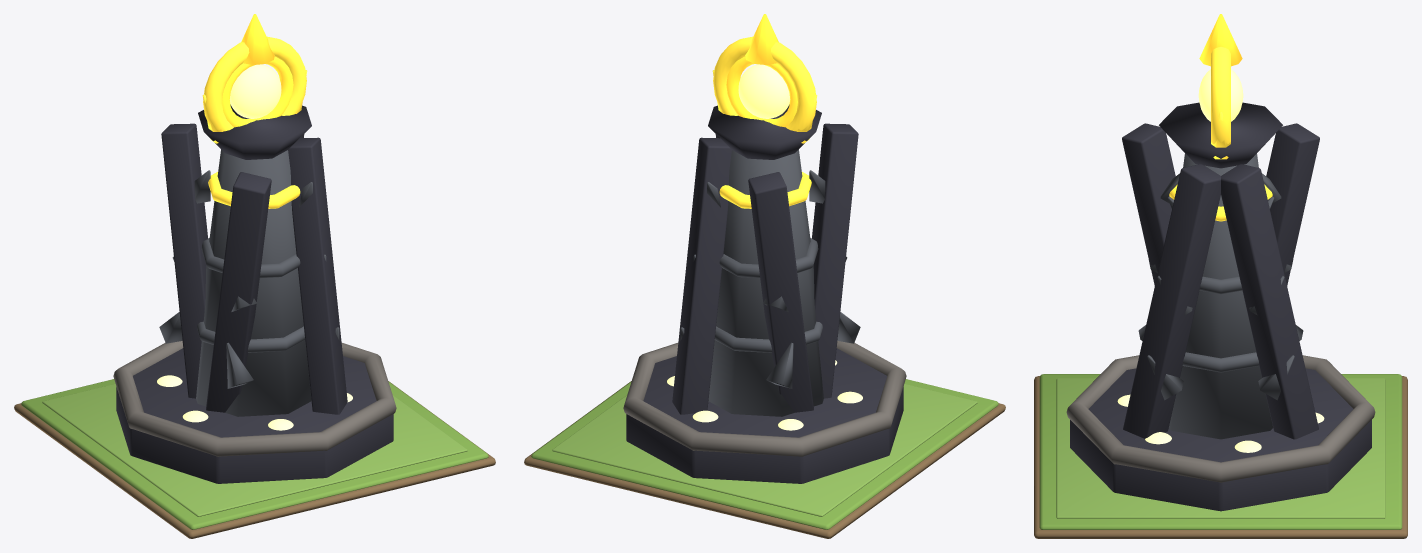
The model's file is inferno_tower.glb.
3 views of the same model, side by side, from view 1: azimuth 30°, elevation 25°; view 2: azimuth 150°, elevation 25°; view 3: azimuth 270°, elevation 25° (orthographic). The views are drawn at different scales.
Parts seen in each view (by area): view 1: IT_BasinOuterWall, IT_SpireCore, Base_Inner, IT_ObsidianRib_3, IT_BasinRim, Base_Grass, IT_ObsidianRib_2, IT_ObsidianRib_1, Base_Dirt, IT_CrownCradle, IT_OcularGoldRing, IT_OcularCoreEye (+6 smaller); view 2: IT_BasinOuterWall, IT_SpireCore, Base_Inner, IT_ObsidianRib_0, IT_BasinRim, Base_Grass, IT_ObsidianRib_1, IT_ObsidianRib_2, Base_Dirt, IT_CrownCradle, IT_OcularGoldRing, IT_OcularCoreEye (+6 smaller); view 3: IT_BasinOuterWall, Base_Inner, IT_ObsidianRib_0, IT_ObsidianRib_3, IT_SpireCore, Base_Grass, IT_BasinRim, Base_Dirt, IT_ObsidianRib_1, IT_ObsidianRib_2, IT_CrownCradle, IT_OcularGoldRing (+6 smaller).
Part boxes in pixels (x1=…): IT_BasinOuterWall: x1=116, y1=348, x2=393, y2=483; IT_SpireCore: x1=196, y1=149, x2=311, y2=416; Base_Inner: x1=42, y1=383, x2=467, y2=516; IT_ObsidianRib_3: x1=288, y1=137, x2=347, y2=414; IT_BasinRim: x1=113, y1=341, x2=396, y2=456; Base_Grass: x1=21, y1=379, x2=488, y2=529; IT_ObsidianRib_2: x1=206, y1=172, x2=271, y2=412; IT_ObsidianRib_1: x1=161, y1=123, x2=207, y2=398; Base_Dirt: x1=14, y1=381, x2=495, y2=538; IT_CrownCradle: x1=198, y1=104, x2=311, y2=159; IT_OcularGoldRing: x1=203, y1=36, x2=306, y2=131; IT_OcularCoreEye: x1=229, y1=64, x2=281, y2=118; IT_BasinOuterWall: x1=626, y1=348, x2=903, y2=483; IT_SpireCore: x1=708, y1=149, x2=823, y2=416; Base_Inner: x1=552, y1=383, x2=977, y2=516; IT_ObsidianRib_0: x1=672, y1=137, x2=731, y2=414; IT_BasinRim: x1=623, y1=341, x2=906, y2=456; Base_Grass: x1=531, y1=379, x2=998, y2=529; IT_ObsidianRib_1: x1=748, y1=172, x2=813, y2=412; IT_ObsidianRib_2: x1=812, y1=123, x2=858, y2=398; Base_Dirt: x1=524, y1=381, x2=1005, y2=538; IT_CrownCradle: x1=708, y1=104, x2=821, y2=159; IT_OcularGoldRing: x1=713, y1=36, x2=816, y2=131; IT_OcularCoreEye: x1=738, y1=64, x2=790, y2=118; IT_BasinOuterWall: x1=1070, y1=368, x2=1371, y2=511; Base_Inner: x1=1056, y1=378, x2=1385, y2=518; IT_ObsidianRib_0: x1=1221, y1=164, x2=1318, y2=439; IT_ObsidianRib_3: x1=1123, y1=164, x2=1220, y2=438; IT_SpireCore: x1=1168, y1=153, x2=1273, y2=439; Base_Grass: x1=1039, y1=374, x2=1402, y2=529; IT_BasinRim: x1=1066, y1=355, x2=1375, y2=482; Base_Dirt: x1=1034, y1=376, x2=1407, y2=538; IT_ObsidianRib_1: x1=1266, y1=123, x2=1319, y2=285; IT_ObsidianRib_2: x1=1122, y1=123, x2=1175, y2=285; IT_CrownCradle: x1=1159, y1=102, x2=1282, y2=168; IT_OcularGoldRing: x1=1211, y1=47, x2=1230, y2=143.
Size of the model in its own units: 2.76 by 3.64 by 2.76.
